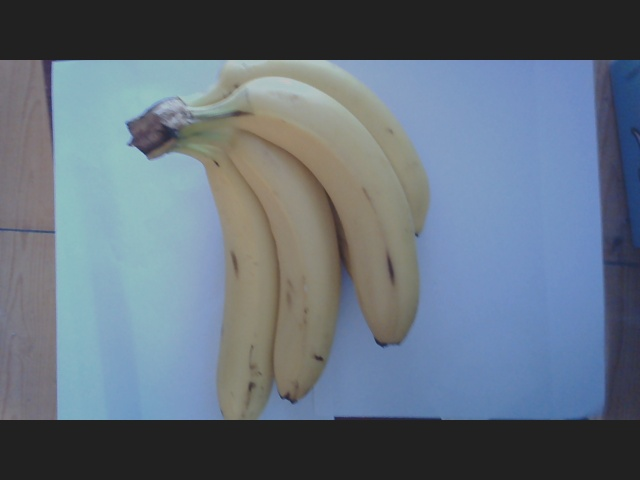banana: (136, 69, 443, 417)
